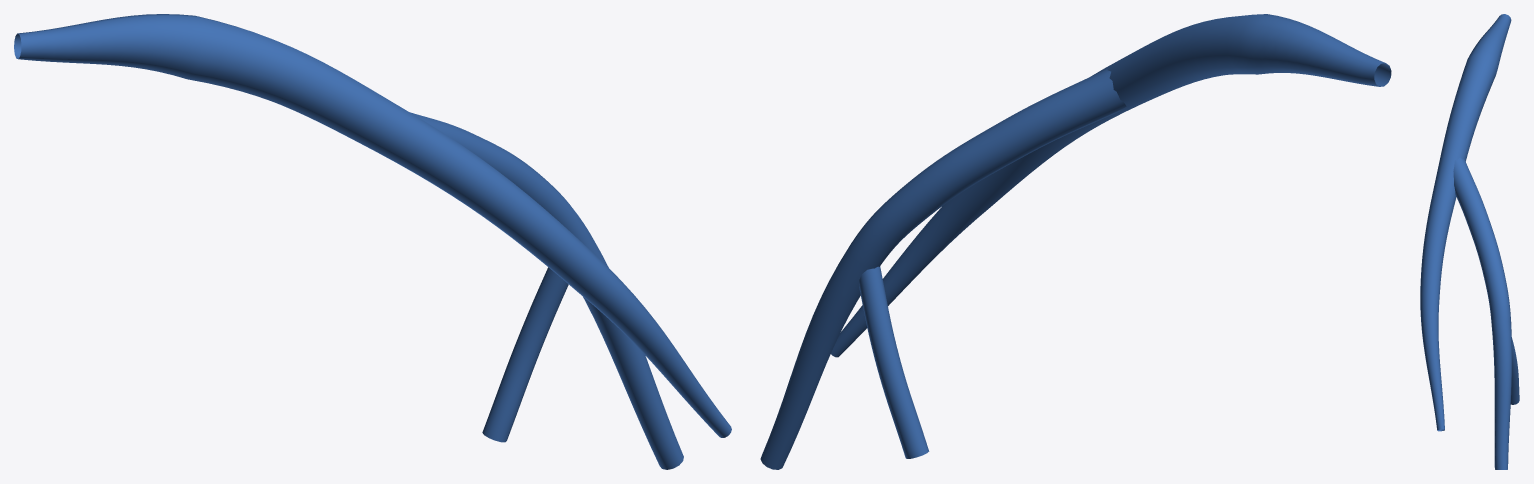
3 renders of one model, left to right at view 1: azimuth 30°, elevation 25°; view 2: azimuth 150°, elevation 25°; view 3: azimuth 270°, elevation 25°, orthographic. The views are drawn at different scales.
Parts seen in each view (by area): view 1: 左肺前静脉; view 2: 左肺前静脉; view 3: 左肺前静脉.
Part boxes in pixels (x1,y1,x2,y2): 左肺前静脉: (14,14,731,469); 左肺前静脉: (760,14,1391,469); 左肺前静脉: (1420,14,1519,469).
Size of the model in its own units: 0.0865 by 0.0736 by 0.0222.
